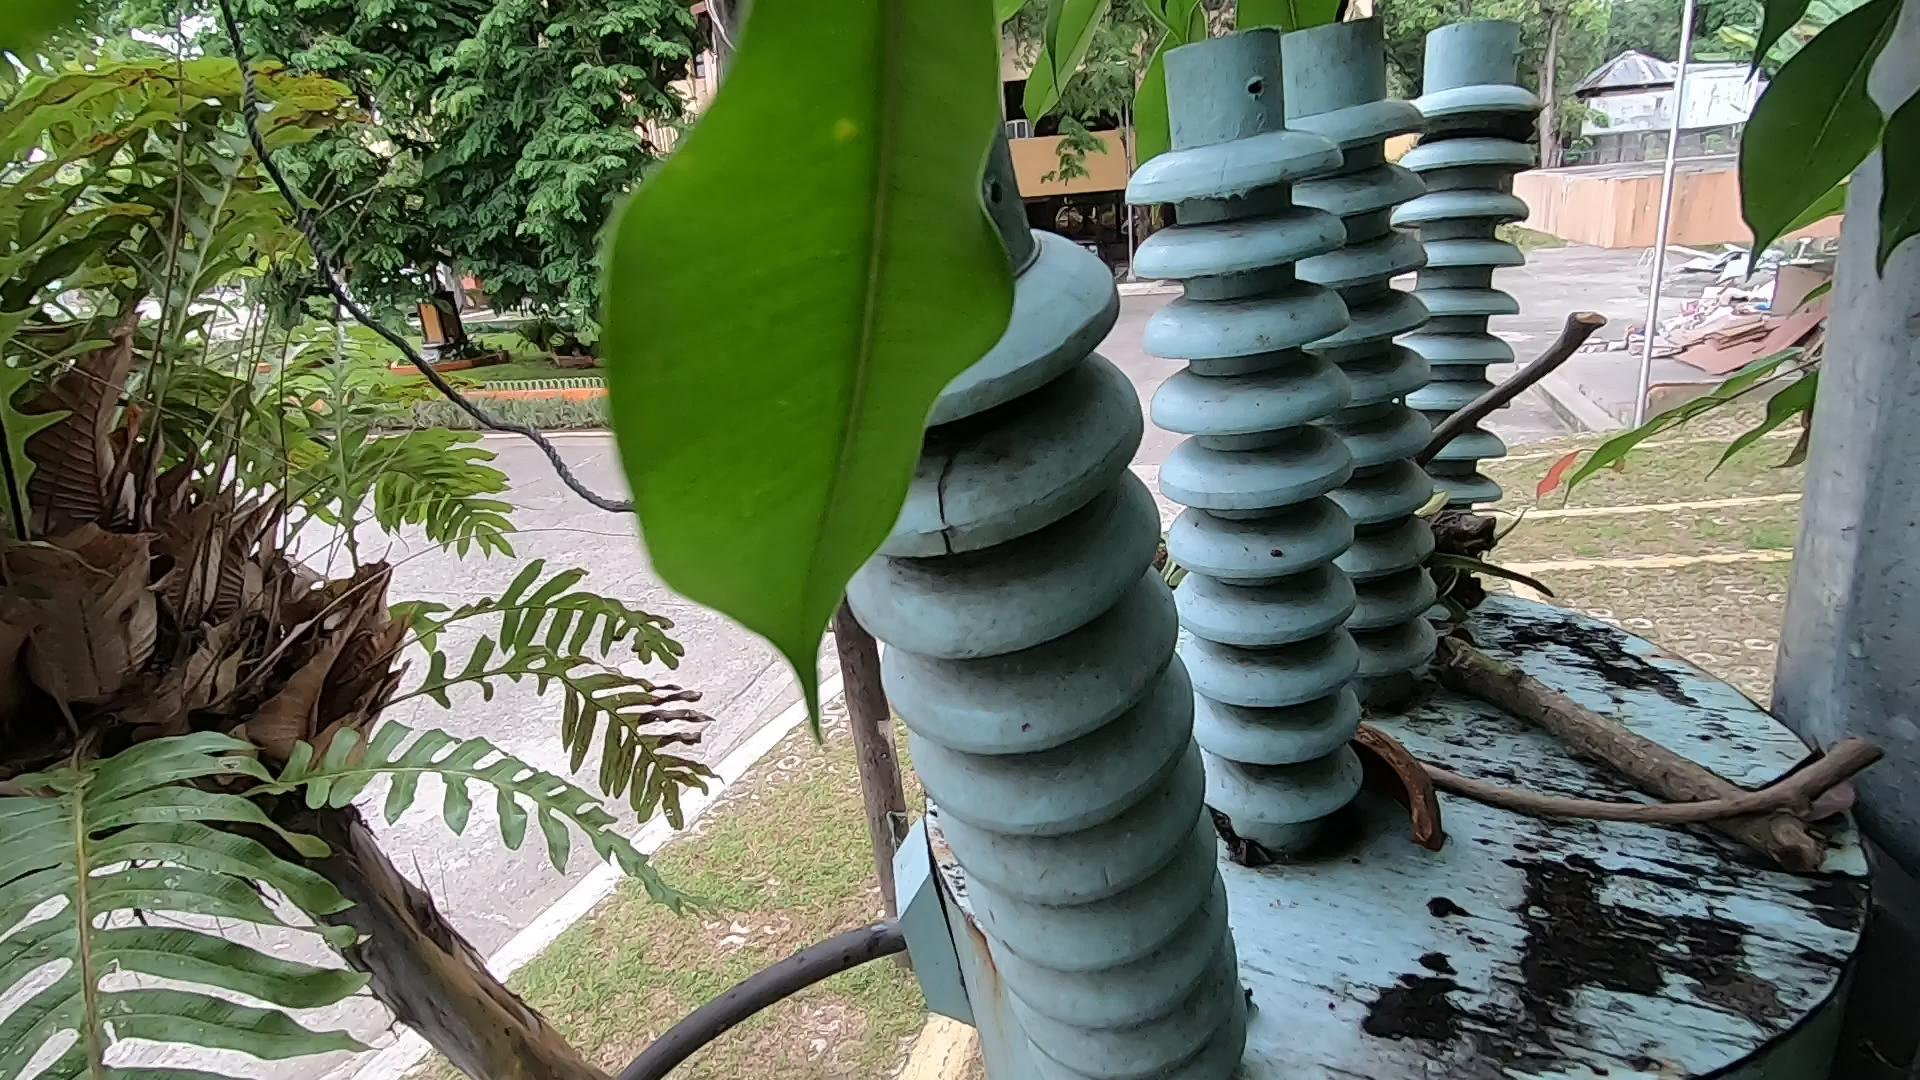branch with leaves: (1416, 527, 1869, 936)
leaf: (1739, 653, 1876, 876)
mahogany fruit: (1353, 705, 1474, 880)
tree branch: (1337, 223, 1658, 546), (1354, 732, 1878, 890)
